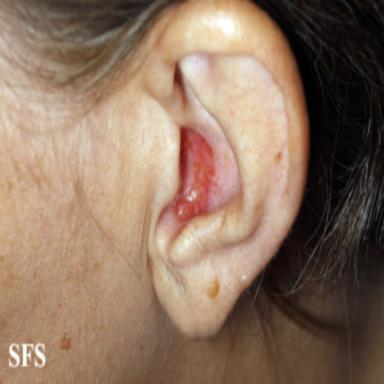basal-cell-carcinoma: (173, 126, 221, 222)
